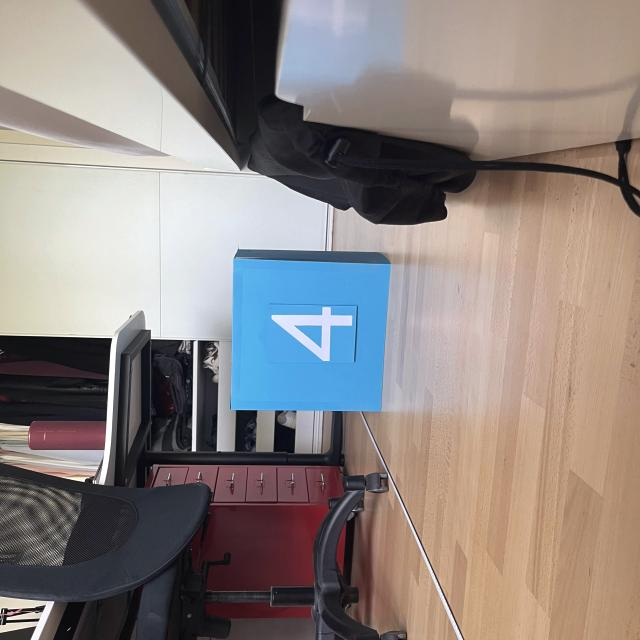box: (226, 243, 394, 414)
